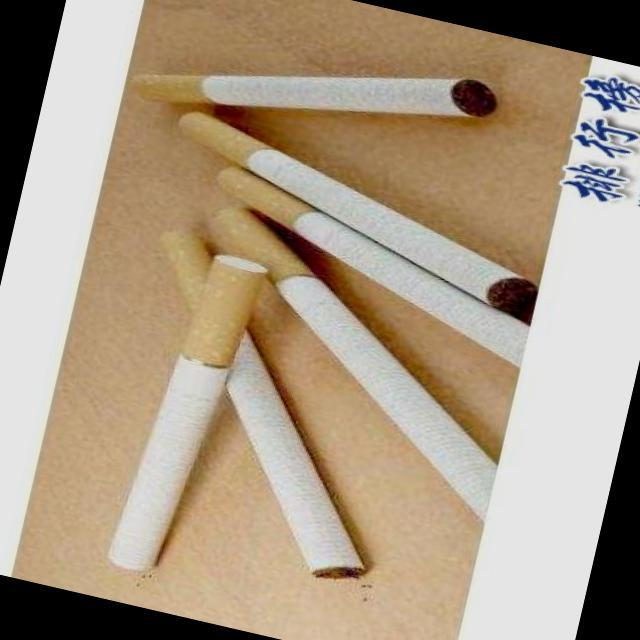cigarette: (99, 231, 268, 590)
